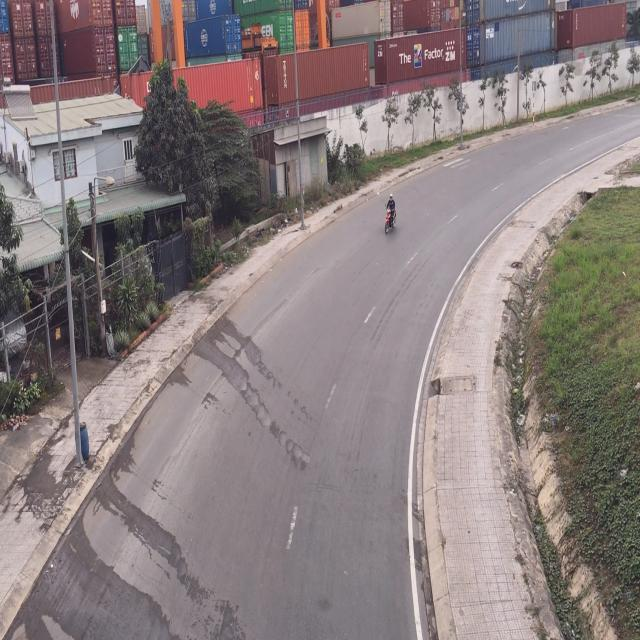motorbike: (379, 194, 396, 241)
